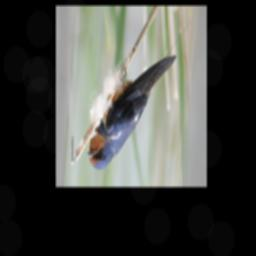Swallow: (86, 55, 177, 171)
